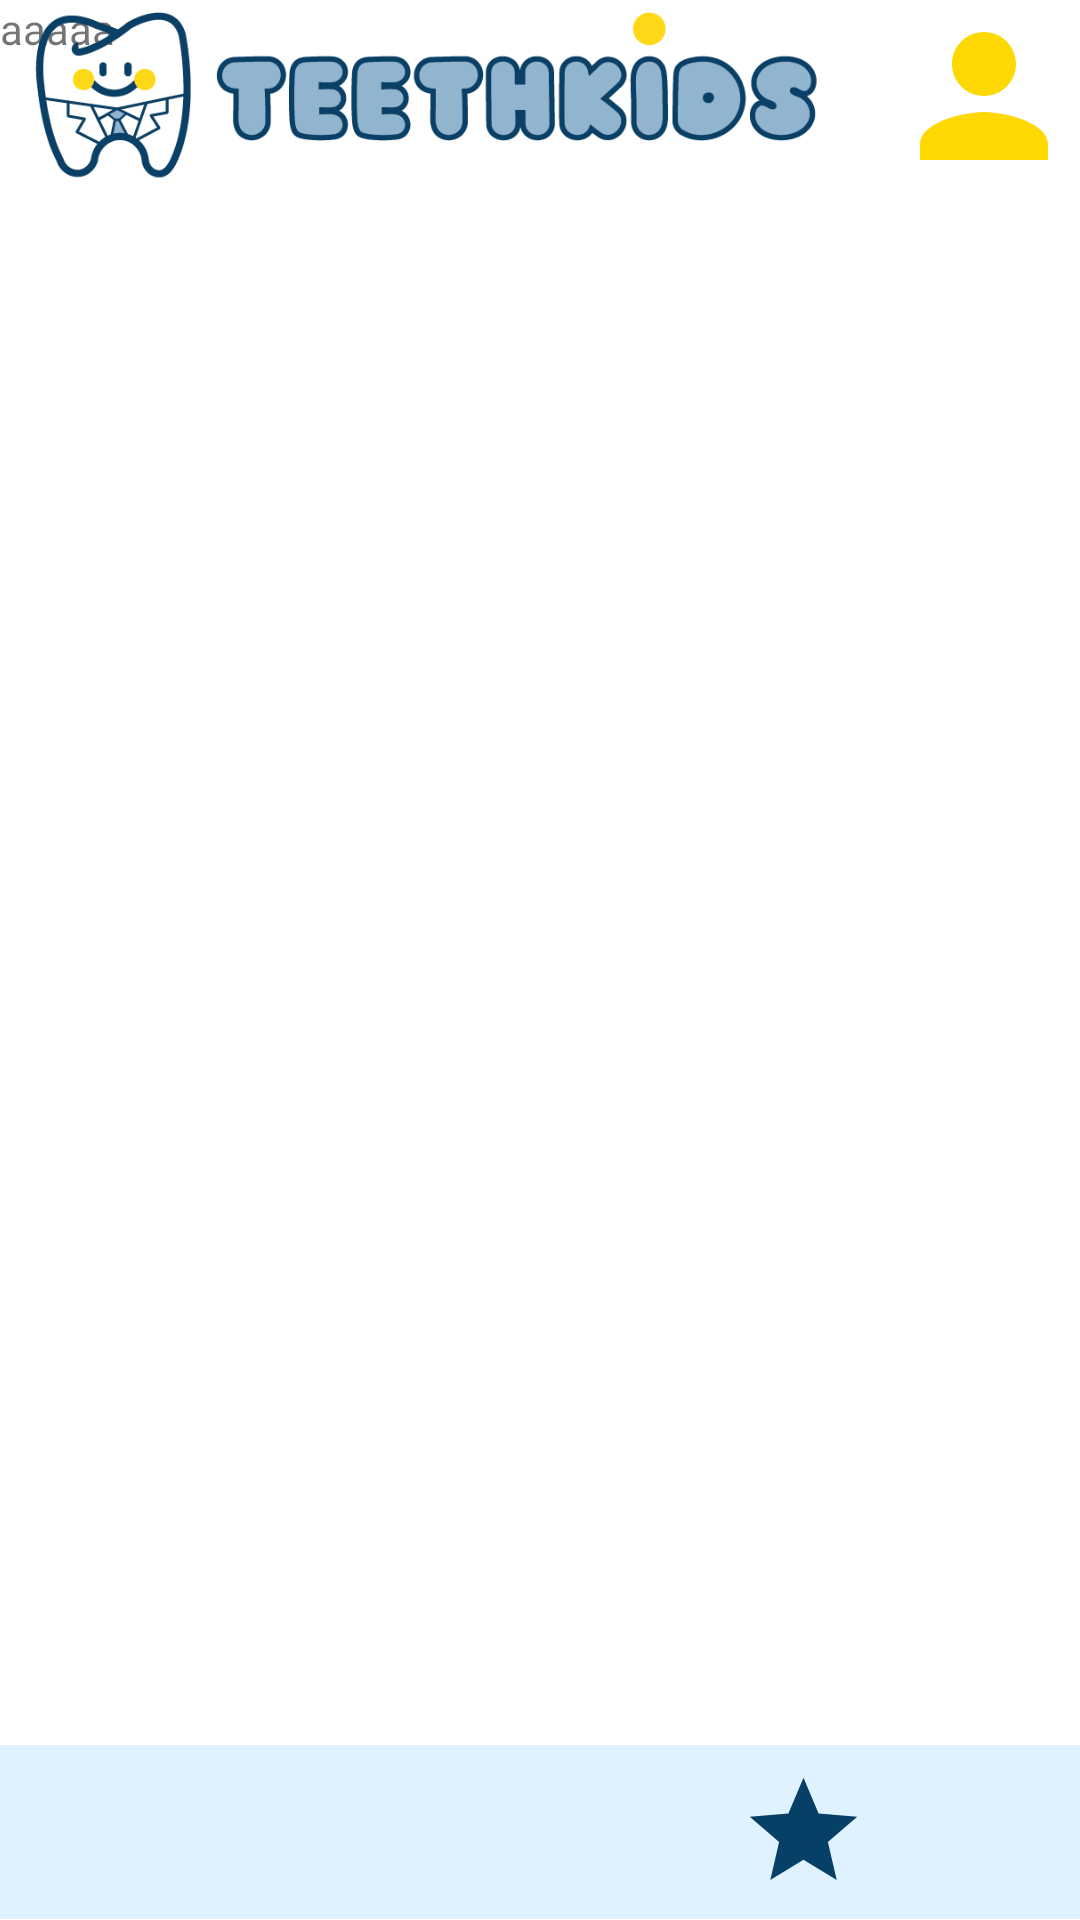

Icon bounding boxes for this 1080×1920 phone screenshot, format (x1, y1, x2, y2):
perfil: (920, 32, 1048, 160)
